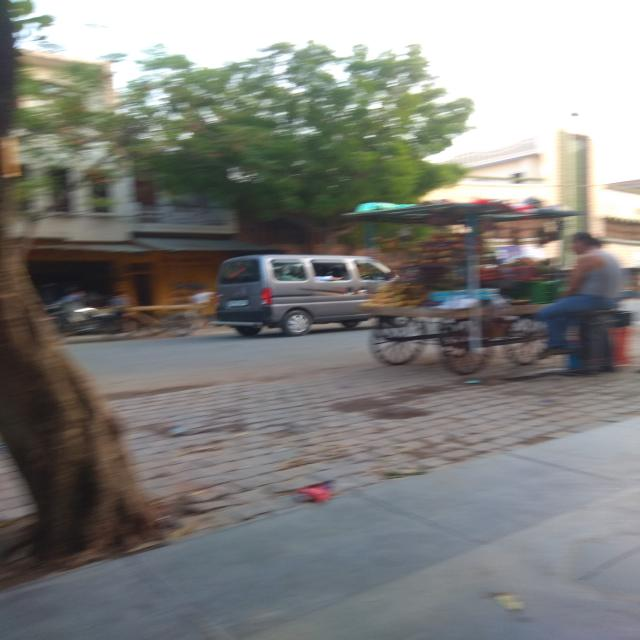Car: (212, 248, 360, 342)
